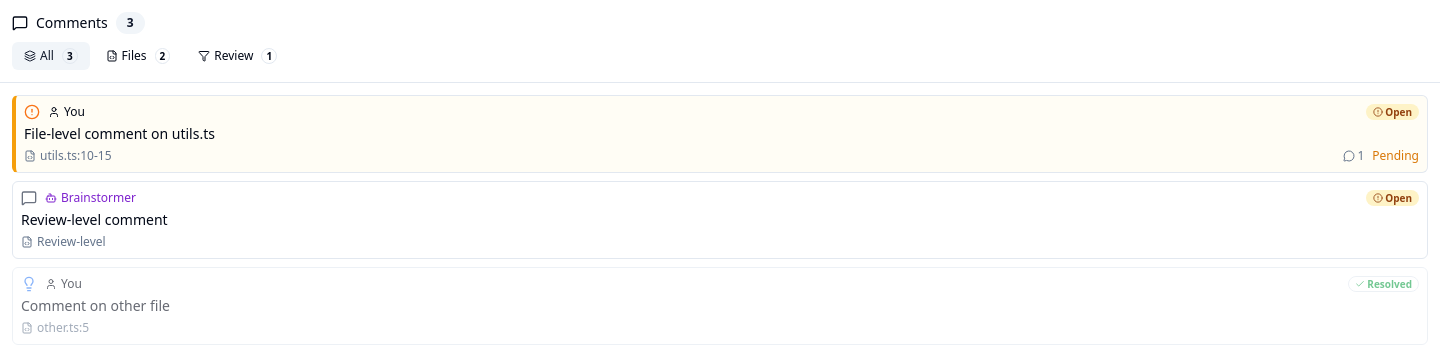
it: CommentPanel › file grouping › groups file comments by file path when Files filter is active
expect the text "File-level comment on utils.ts" is shown: met, box [24, 124, 215, 143]
// Click Files filter
What coordinates should you click on to do the following:
click the button with aria-label "files filter"
I would click on:
 (138, 56)
Its box is [94, 42, 182, 70].
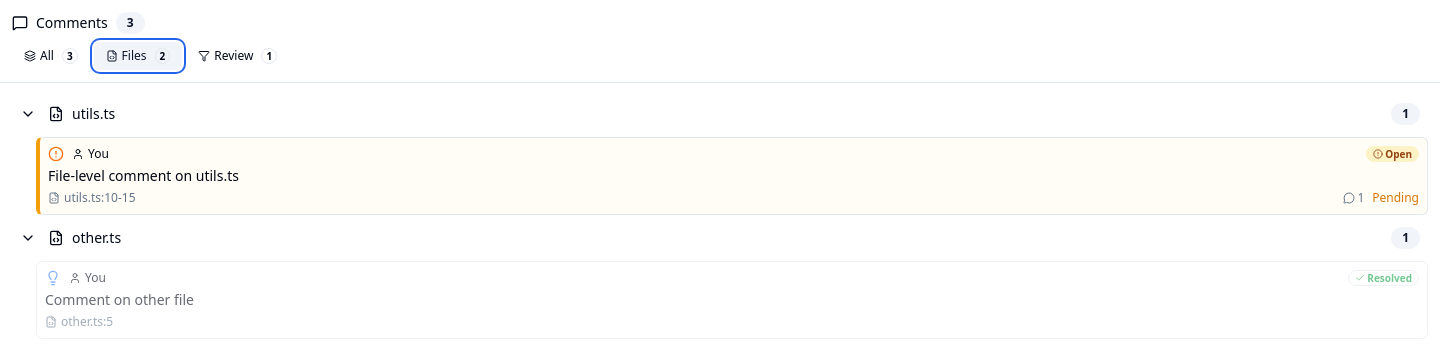
expect the number of elements with test id "file-group" is 2: met, box [12, 95, 1428, 215]; [12, 219, 1428, 339]
